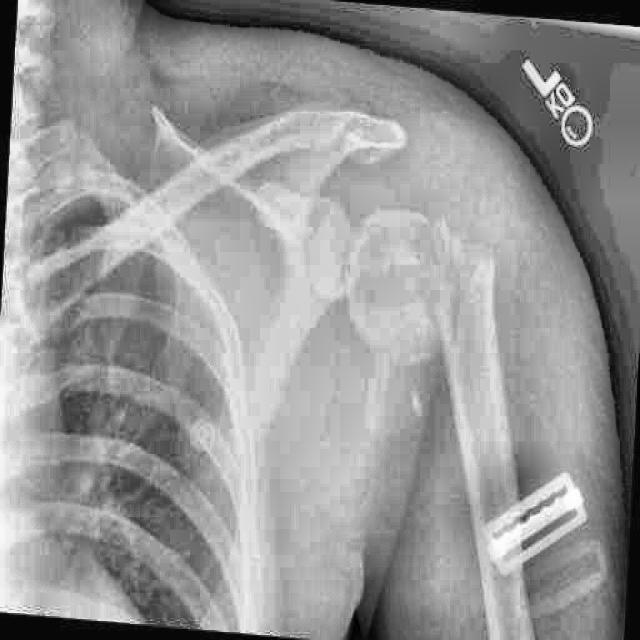shoulder fracture: (407, 185, 521, 354)
